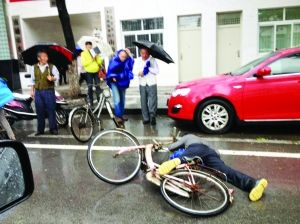fall: (141, 123, 278, 198)
